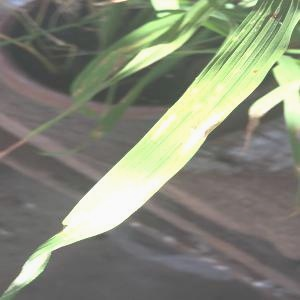Brown_Spot: (176, 100, 232, 153)
